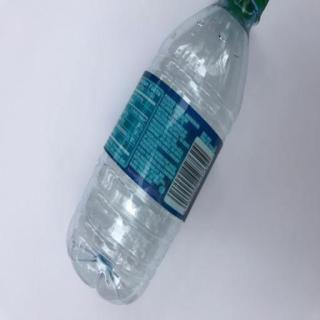Plastic-bottle: (64, 1, 270, 309)
